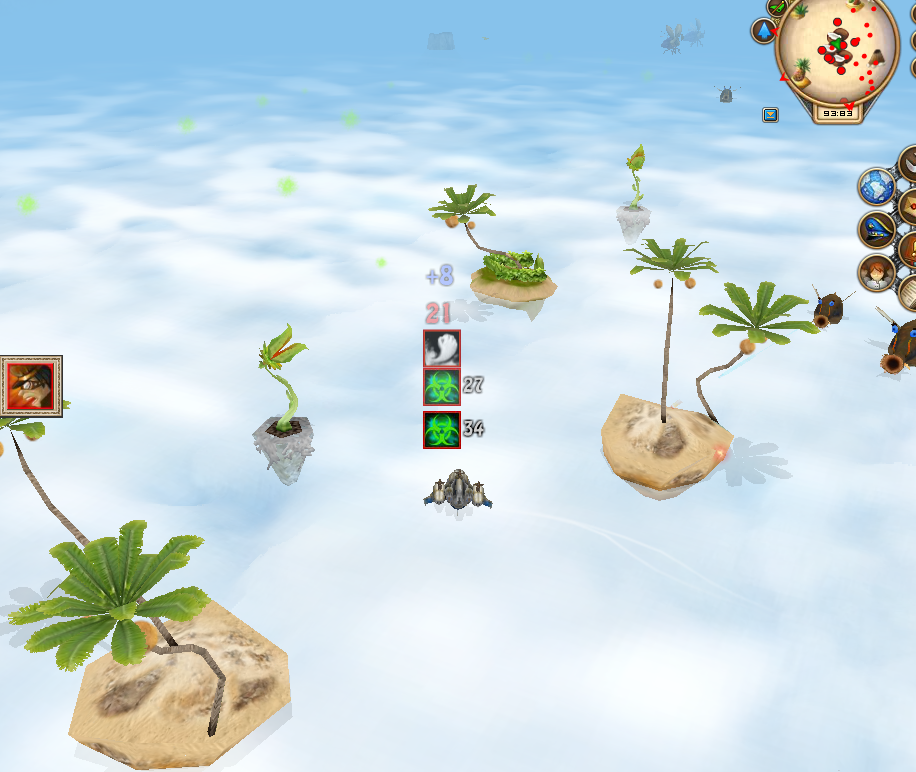palm: (0, 397, 315, 772), (598, 228, 820, 501), (431, 179, 562, 313)
